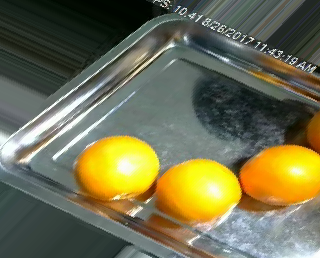Orange: (73, 135, 159, 200), (155, 157, 242, 221), (238, 144, 320, 207)
